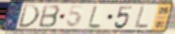5: (113, 5, 134, 30), (65, 5, 86, 29)
B: (37, 4, 62, 29)
D: (16, 4, 40, 29)
L: (133, 5, 150, 30), (87, 5, 102, 29)
